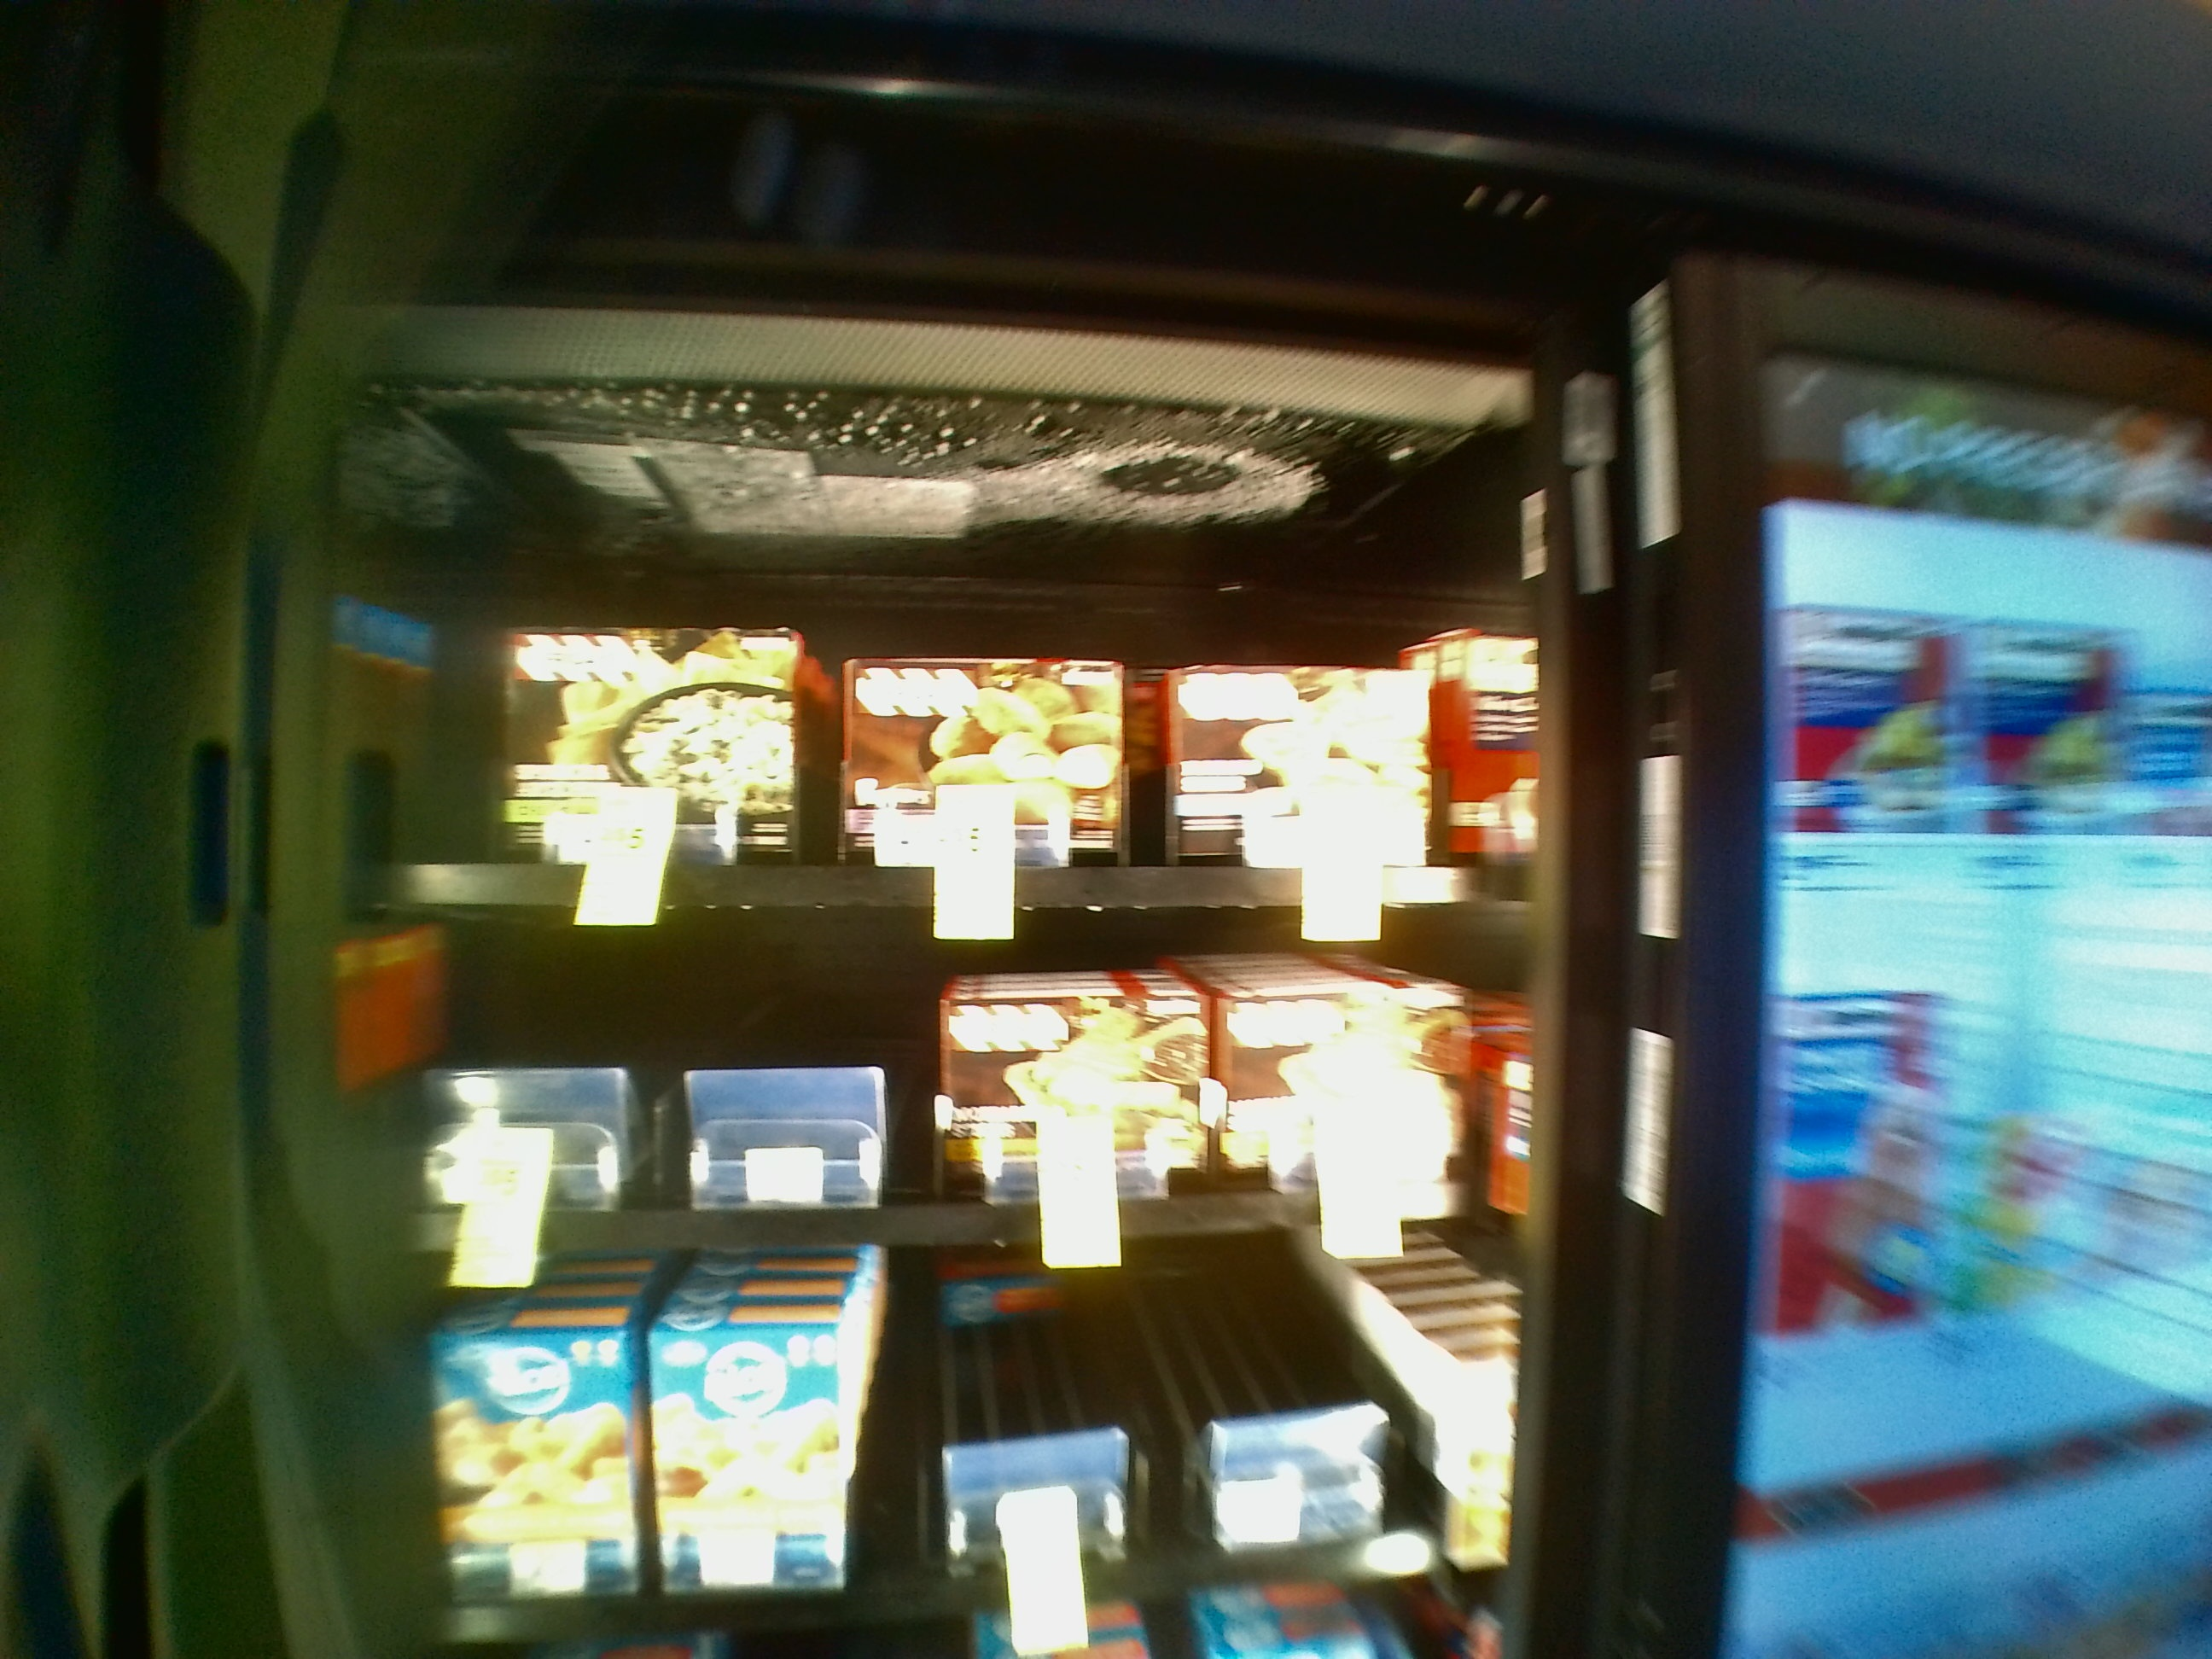shelf: (347, 425, 1529, 922), (343, 932, 1524, 1260)
